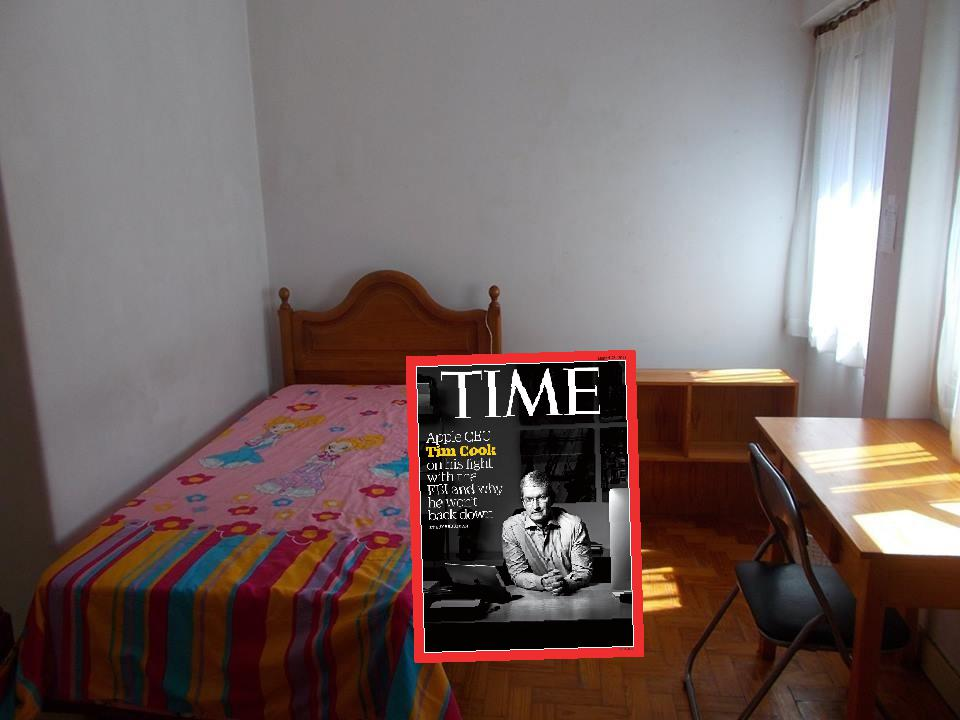times: (403, 349, 646, 663)
